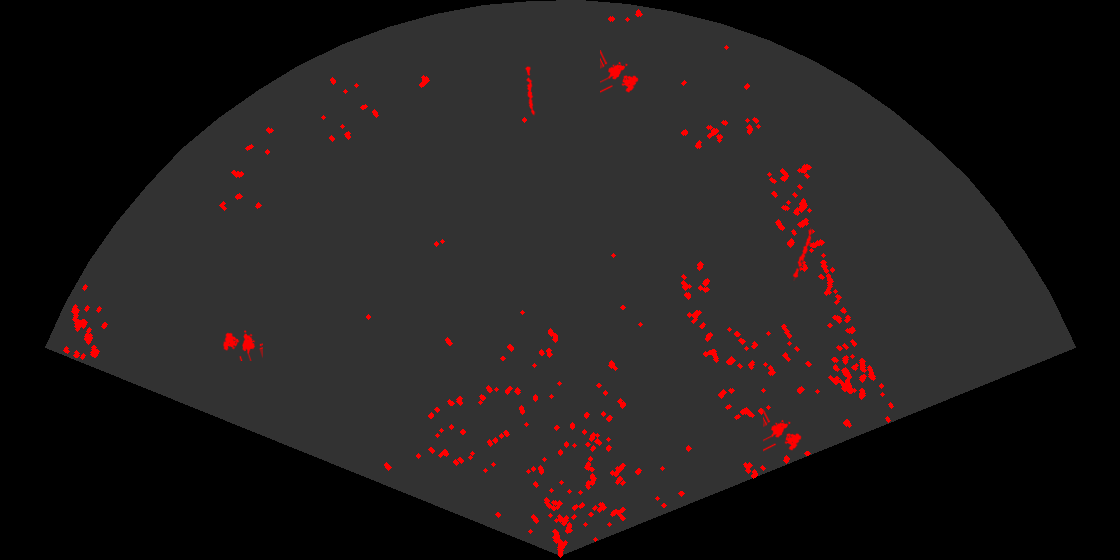cage: (763, 408, 803, 453), (600, 50, 640, 95), (222, 329, 263, 361)
chain: (791, 227, 814, 281), (523, 66, 536, 116)
